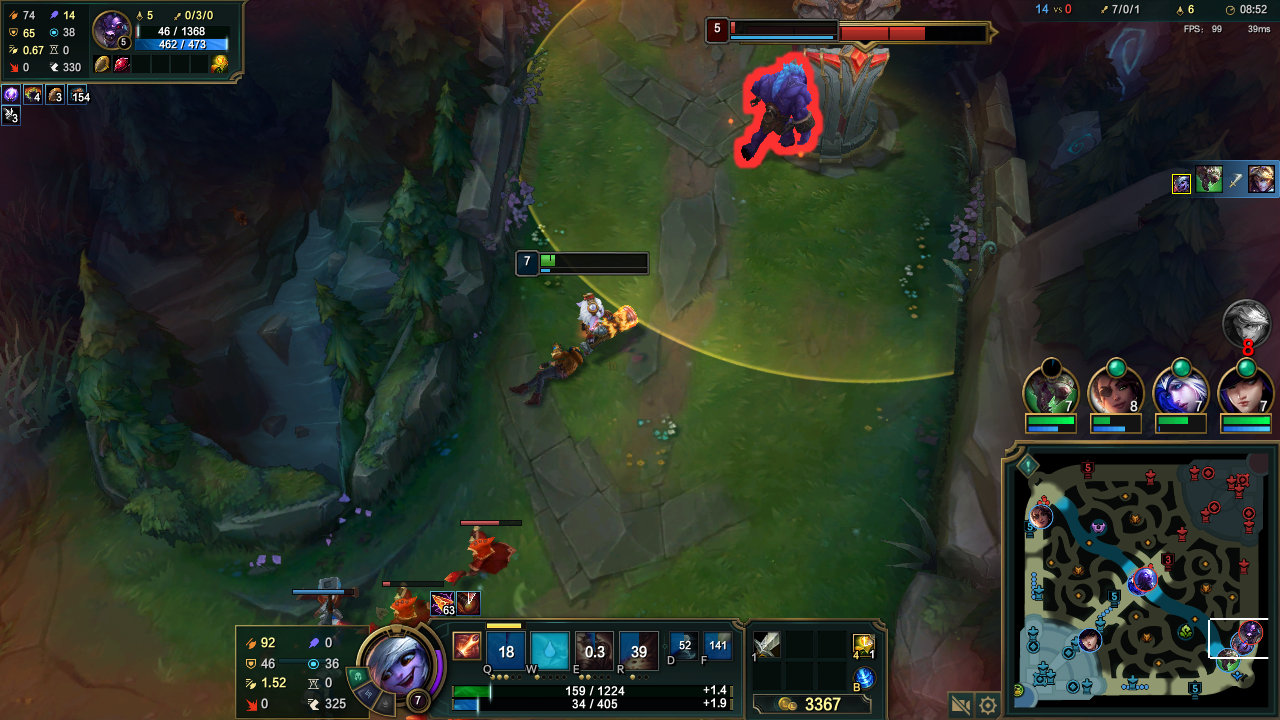DFFYT: (815, 27, 910, 157)
DFXB: (444, 531, 528, 580), (387, 590, 429, 624)
DFYX: (721, 17, 774, 45)
Yita: (1186, 675, 1203, 701)
